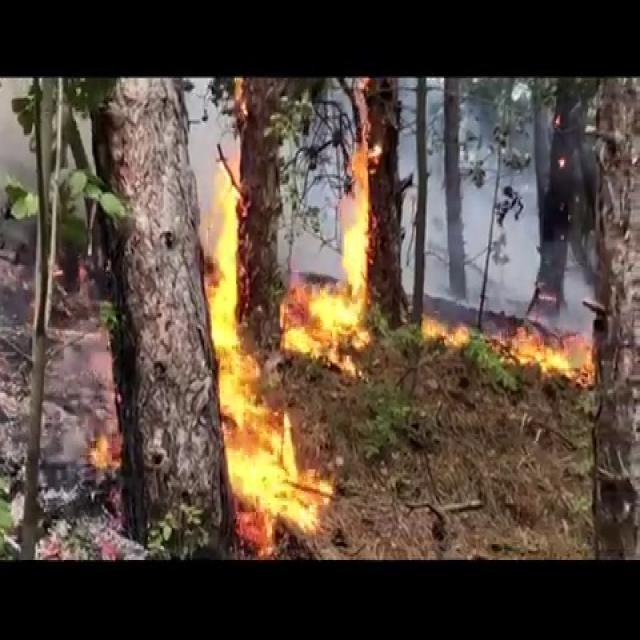Fire: (191, 117, 386, 550), (295, 118, 385, 367), (506, 321, 598, 392), (425, 316, 480, 356)
